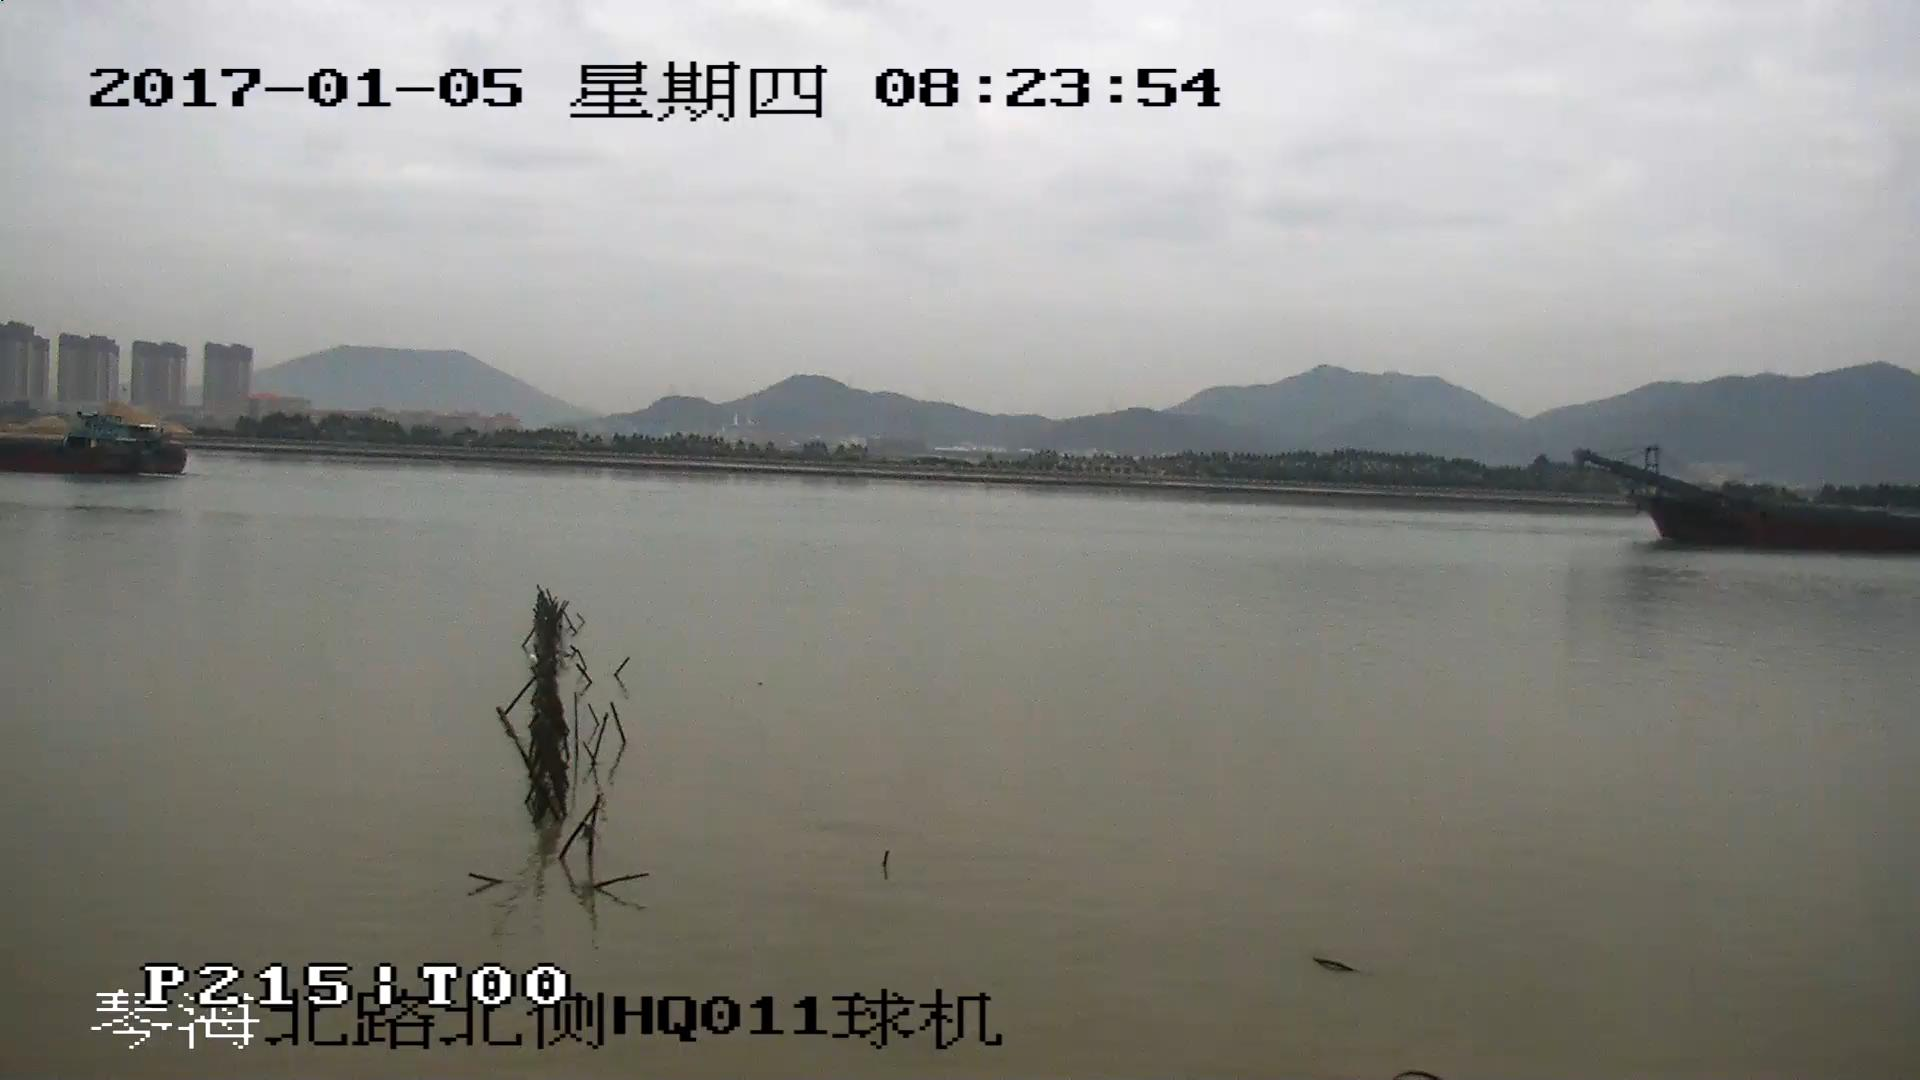bulk cargo carrier: (1581, 452, 1920, 548), (1, 417, 188, 476)
